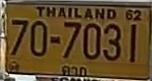0: (83, 22, 100, 59), (30, 20, 46, 56)
1: (130, 24, 136, 62)
3: (102, 23, 120, 60)
7: (63, 21, 80, 58), (11, 19, 27, 56)
TAK: (58, 63, 88, 78)
